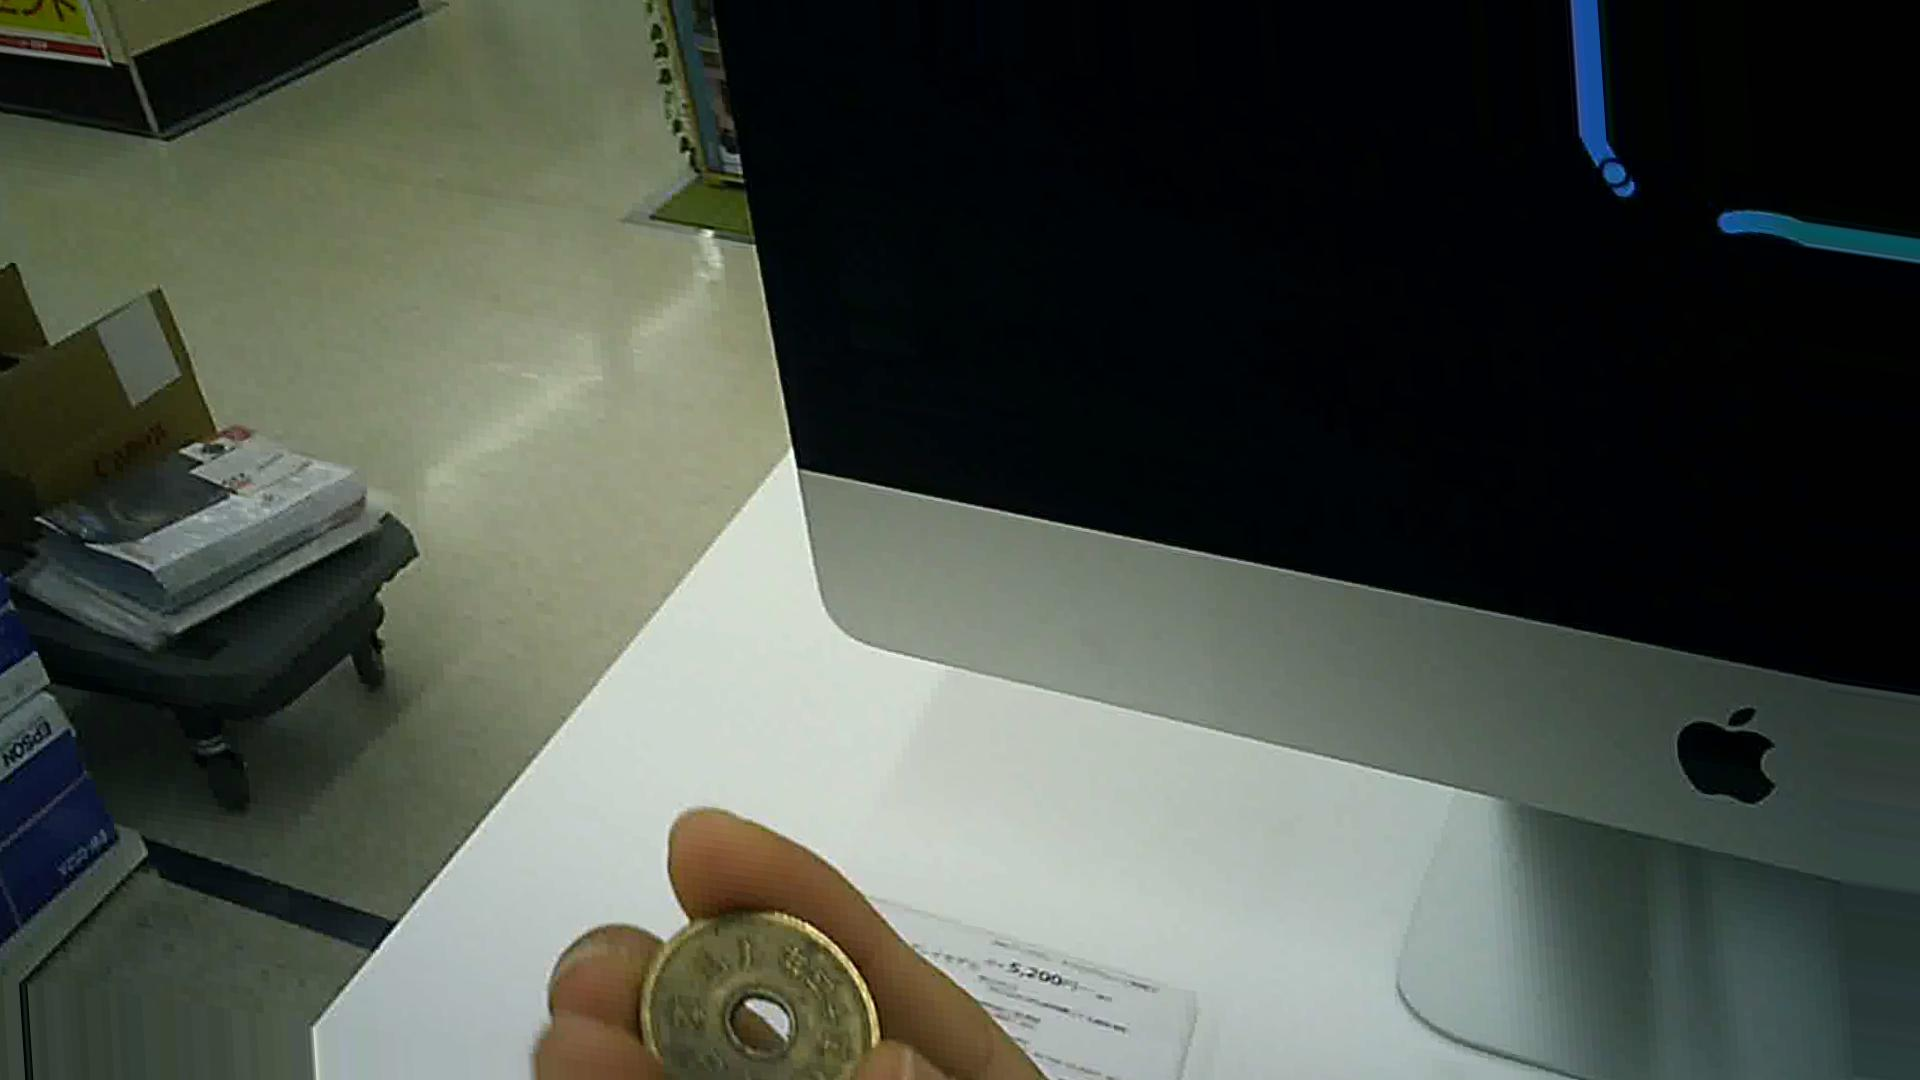5 Yen: (630, 906, 903, 1077)
